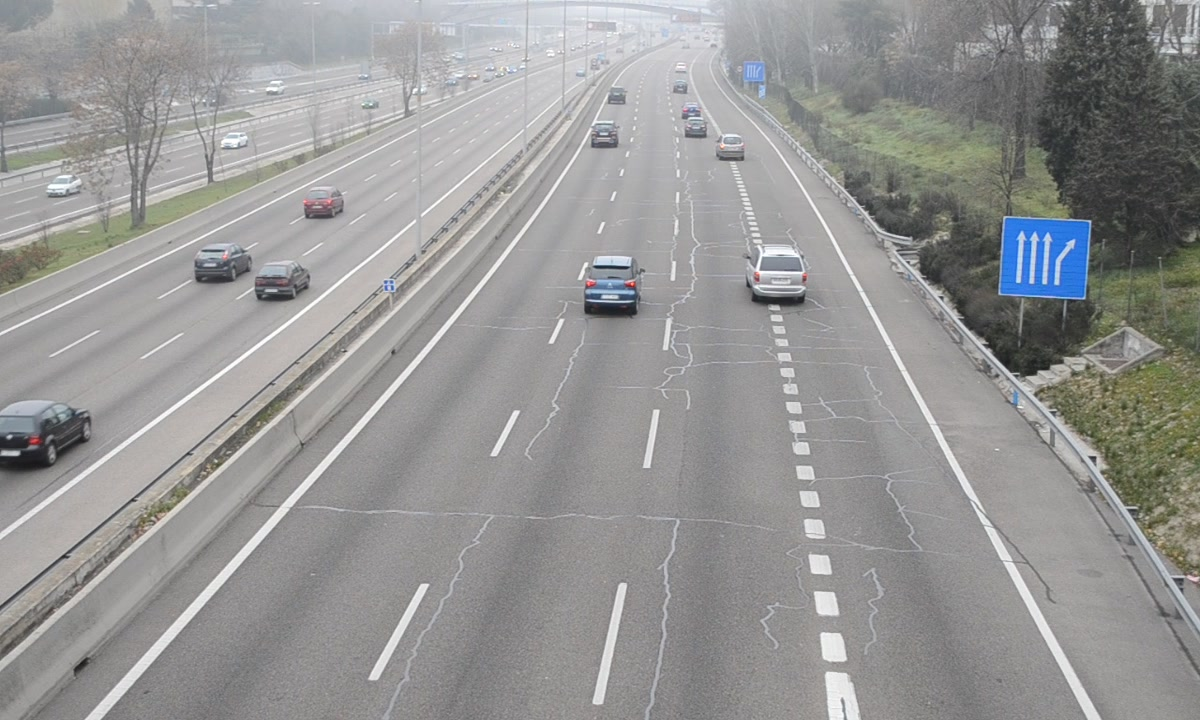car: (584, 257, 641, 312), (748, 245, 806, 299), (589, 119, 619, 148), (717, 132, 745, 161)
